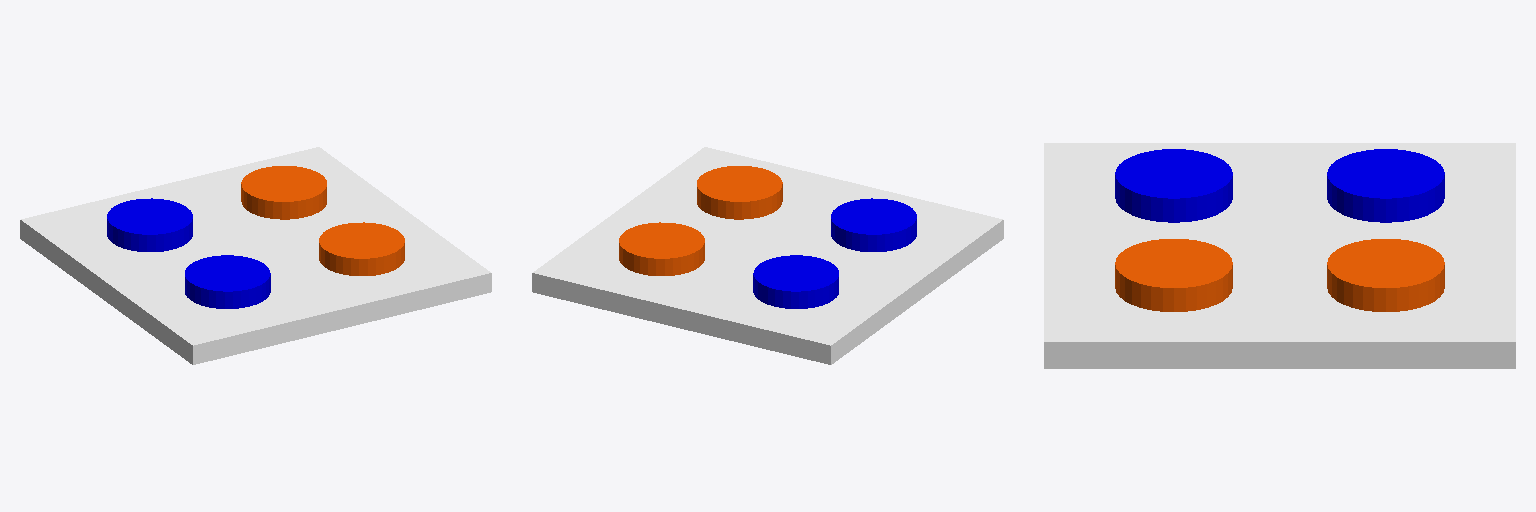
URDF robot description (quadrotor):
<?xml version="1.0"?>
<robot name="quadrotor">
  <link name="base_link">
    <visual>
      <origin xyz="0 0 0.0"/>
      <geometry>
        <box size="0.4 0.4 0.025"/>
      </geometry>
      <material name="White">
        <color rgba="1 1 1 1.0"/>
      </material>
    </visual>
    <collision>
      <origin xyz="0 0 0"/>
      <geometry>
        <box size="0.5 0.5 0.5"/>
      </geometry>
    </collision>
    <inertial>
      <mass value="1.2"/>
      <inertia ixx="0.013" ixy="0.0" ixz="0.0" iyy="0.014" iyz="0.0" izz="0.013"/>
    </inertial>
  </link>
  <link name="front_left_prop">
    <visual>
      <origin xyz="0 0 0"/>
      <geometry>
        <cylinder radius="0.05" length="0.07"/>
        <!-- <box size="0.1 0.1 0.07"/> -->
      </geometry>
      <material name="Orange">
        <color rgba="1 0.423 0.03921568627 1.0"/>
      </material>
    </visual>
    <inertial>
      <mass value="0.01"/>
      <inertia ixx="0.000001" ixy="0.0" ixz="0.0" iyy="0.000001" iyz="0.0" izz="0.000001"/>
    </inertial>
  </link>
  <link name="front_right_prop">
    <visual>
      <origin xyz="0 0 0"/>
      <geometry>
      <!-- <box size="0.1 0.1 0.07"/> -->
        <cylinder radius="0.05" length="0.07"/>
      </geometry>
      <material name="Orange">
        <color rgba="1.0 0.423 0.03921568627 1.0"/>
      </material>
    </visual>
    <inertial>
      <mass value="0.01"/>
      <inertia ixx="0.000001" ixy="0.0" ixz="0.0" iyy="0.000001" iyz="0.0" izz="0.000001"/>
    </inertial>
  </link>
  <link name="back_left_prop">
    <visual>
      <origin xyz="0 0 0"/>
      <geometry>
      <!-- <box size="0.1 0.1 0.07"/> -->
        <cylinder radius="0.05" length="0.07"/>
      </geometry>
      <material name="Blue">
        <color rgba="0 0 1 1.0"/>
      </material>
    </visual>
    <inertial>
      <mass value="0.01"/>
      <inertia ixx="0.000001" ixy="0.0" ixz="0.0" iyy="0.000001" iyz="0.0" izz="0.000001"/>
    </inertial>
  </link>
  <link name="back_right_prop">
    <visual>
      <origin xyz="0 0 0"/>
      <geometry>
      <!-- <box size="0.1 0.1 0.07"/> -->
        <cylinder radius="0.05" length="0.07"/>
      </geometry>
      <material name="Blue">
        <color rgba="0 0 1 1.0"/>
      </material>
    </visual>
    <inertial>
      <mass value="0.01"/>
      <inertia ixx="0.000001" ixy="0.0" ixz="0.0" iyy="0.000001" iyz="0.0" izz="0.000001"/>
    </inertial>
  </link>
  <joint name="base_link_to_front_left_prop" type="fixed" dont_collapse="true">
    <parent link="base_link"/>
    <child link="front_left_prop"/>
    <origin xyz="0.0900 0.0900 0"/>
  </joint>
  <joint name="base_link_to_front_right_prop" type="fixed" dont_collapse="true">
    <parent link="base_link"/>
    <child link="front_right_prop"/>
    <origin xyz="0.0900 -0.0900 0"/>
  </joint>
  <joint name="base_link_to_back_right_prop" type="fixed" dont_collapse="true">
    <parent link="base_link"/>
    <child link="back_right_prop"/>
    <origin xyz="-0.0900 -0.0900 0"/>
  </joint>
  <joint name="base_link_to_back_left_prop" type="fixed" dont_collapse="true">
    <parent link="base_link"/>
    <child link="back_left_prop"/>
    <origin xyz="-0.0900 0.0900 0"/>
  </joint>
</robot>

--- What the picture shows (computed from the rendered views, not written in the file) ---
The picture shows the robot from 3 angles, left to right: view 1: azimuth 30°, elevation 25°; view 2: azimuth 150°, elevation 25°; view 3: azimuth 270°, elevation 25°; orthographic projection.
Robot: quadrotor — 5 links, 4 joints (4 fixed); root link base_link; default pose: every joint at zero.
Links seen in each view (by area): view 1: base_link, back_right_prop, front_left_prop, back_left_prop, front_right_prop; view 2: base_link, back_left_prop, front_right_prop, back_right_prop, front_left_prop; view 3: base_link, back_left_prop, back_right_prop, front_left_prop, front_right_prop.
Link boxes in pixels (x1=…): base_link: x1=20, y1=147, x2=491, y2=364; back_right_prop: x1=185, y1=255, x2=270, y2=308; front_left_prop: x1=241, y1=166, x2=326, y2=219; back_left_prop: x1=107, y1=198, x2=192, y2=251; front_right_prop: x1=319, y1=222, x2=404, y2=275; base_link: x1=532, y1=147, x2=1003, y2=364; back_left_prop: x1=753, y1=255, x2=838, y2=308; front_right_prop: x1=697, y1=166, x2=782, y2=219; back_right_prop: x1=831, y1=198, x2=916, y2=251; front_left_prop: x1=619, y1=222, x2=704, y2=275; base_link: x1=1044, y1=143, x2=1515, y2=368; back_left_prop: x1=1327, y1=149, x2=1444, y2=222; back_right_prop: x1=1115, y1=149, x2=1232, y2=222; front_left_prop: x1=1327, y1=239, x2=1444, y2=311; front_right_prop: x1=1115, y1=239, x2=1232, y2=311.
Bounding box of the posed robot: 0.4 × 0.4 × 0.07 m (x, y, z).
Geometry: primitives only (box / cylinder / sphere), no mesh files.